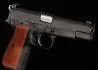gun: (1, 1, 98, 70)
